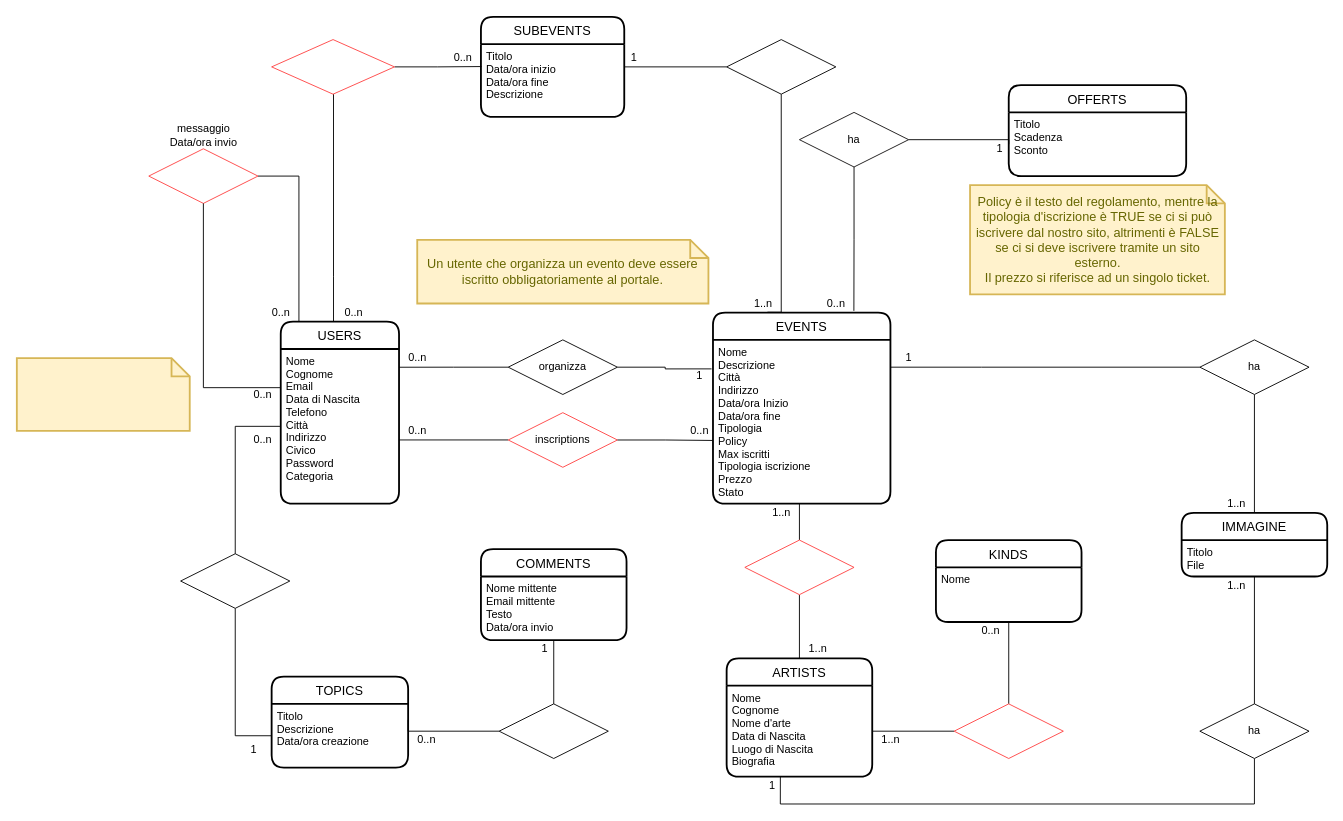
Image size: 1343x821. Some labels were removed from this diagram. Each missing label, with the centre of its shape:
"artist_event" goes at point (799, 567).
"artist_kind" goes at point (1008, 730).
"CATEGORIA: admin, user, not_user." goes at point (102, 394).
"chats" goes at point (203, 175).
"contiene" goes at point (781, 66).
"crea" goes at point (235, 580).
"riferito" goes at point (553, 730).
"subevents_selected" goes at point (332, 66).
